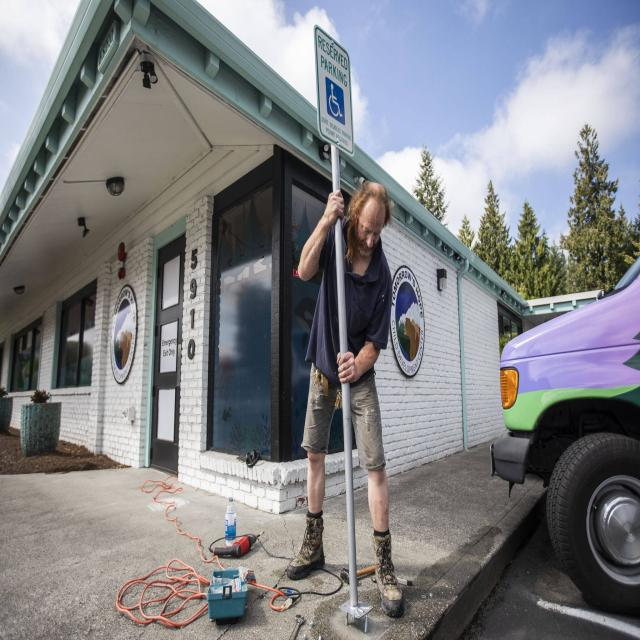car-handicap-placard: (325, 79, 346, 125)
